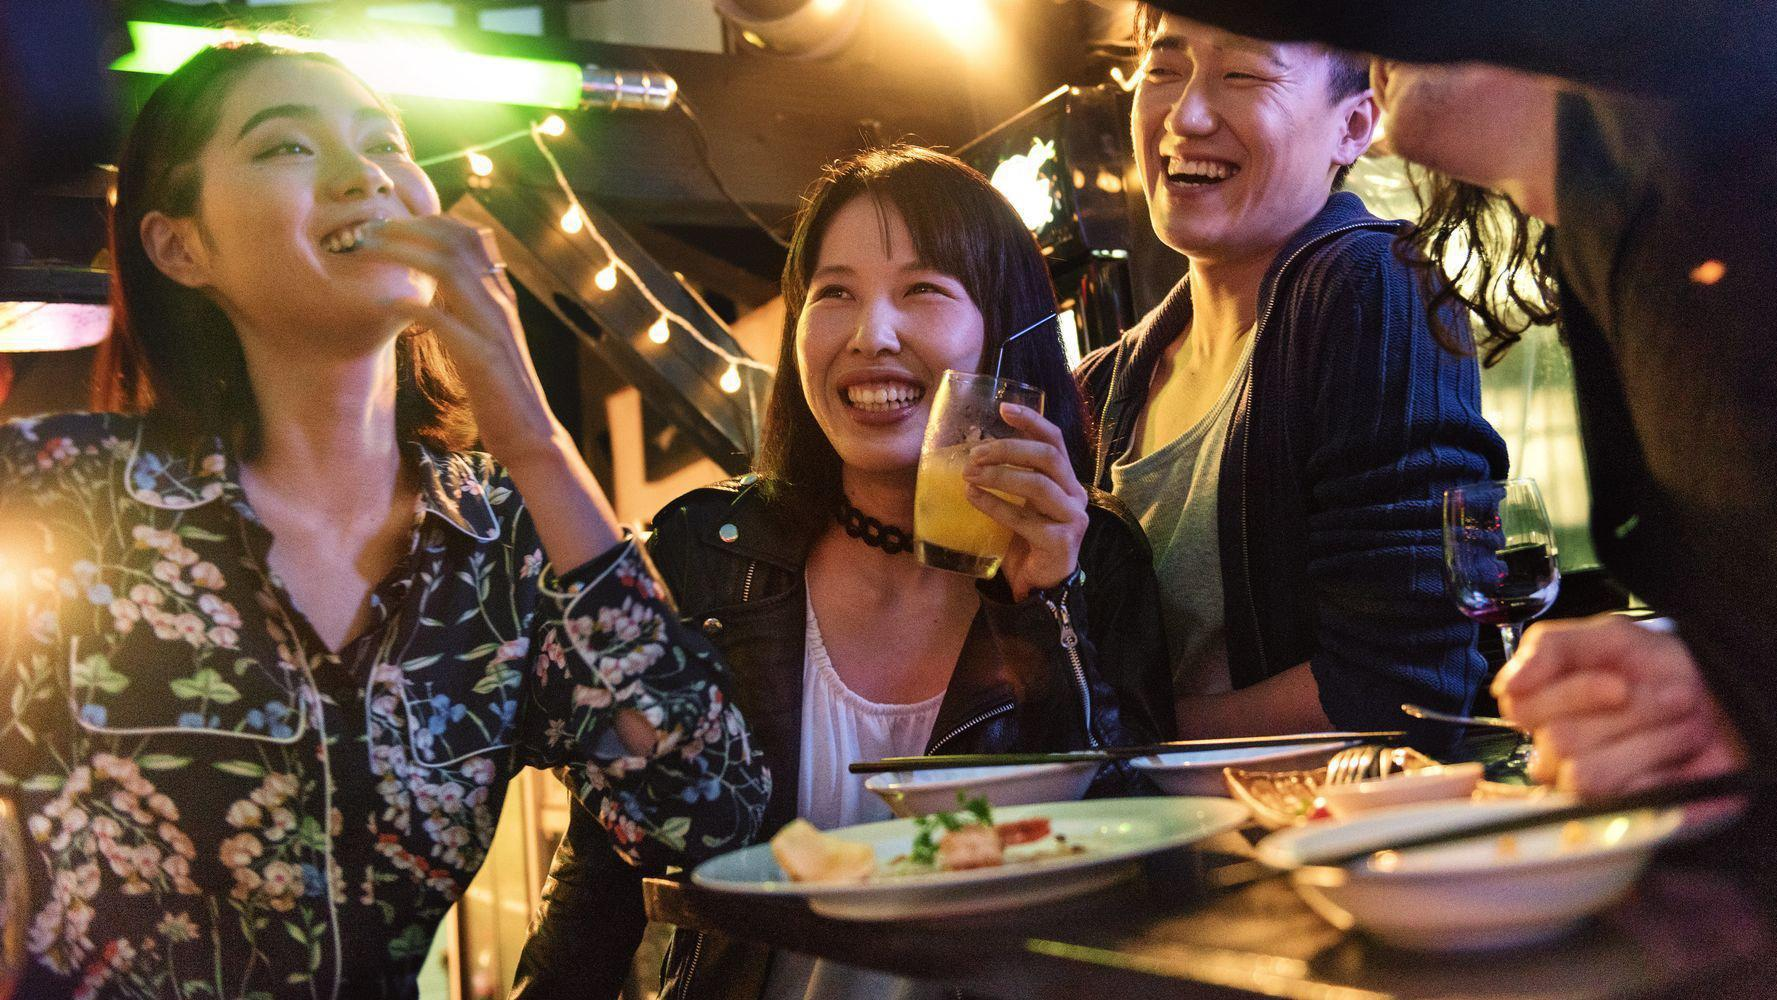Drunk: (217, 62, 445, 328), (788, 178, 982, 451), (1125, 22, 1311, 234)
